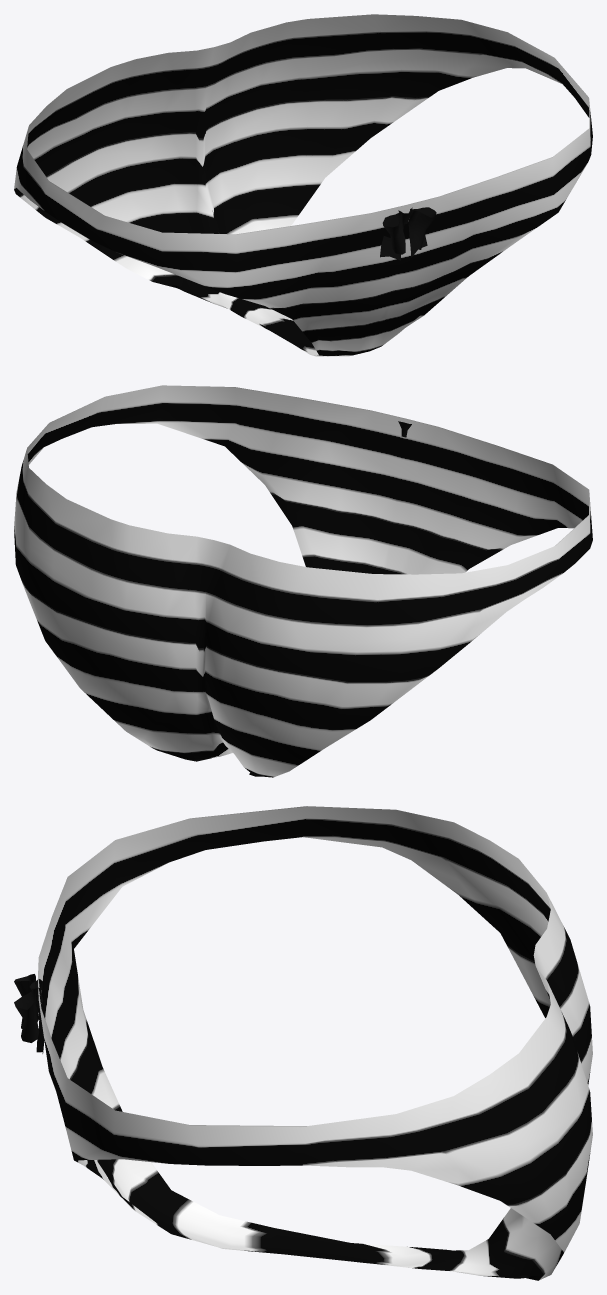
Rendered from Pantie1.fbx.
The picture shows the model from 3 angles, top to bottom: view 1: azimuth 30°, elevation 25°; view 2: azimuth 150°, elevation 25°; view 3: azimuth 270°, elevation 25°; orthographic projection. The views are drawn at different scales.
Parts seen in each view (by area): view 1: Pantie1_mesh; view 2: Pantie1_mesh; view 3: Pantie1_mesh.
Part boxes in pixels (x1,y1,x2,y2): Pantie1_mesh: (14,14,592,356); Pantie1_mesh: (14,385,592,777); Pantie1_mesh: (14,806,592,1280).
Size of the model in its own units: 29.69 by 13.01 by 22.12.
Materials: 2 (1 with a texture image).
